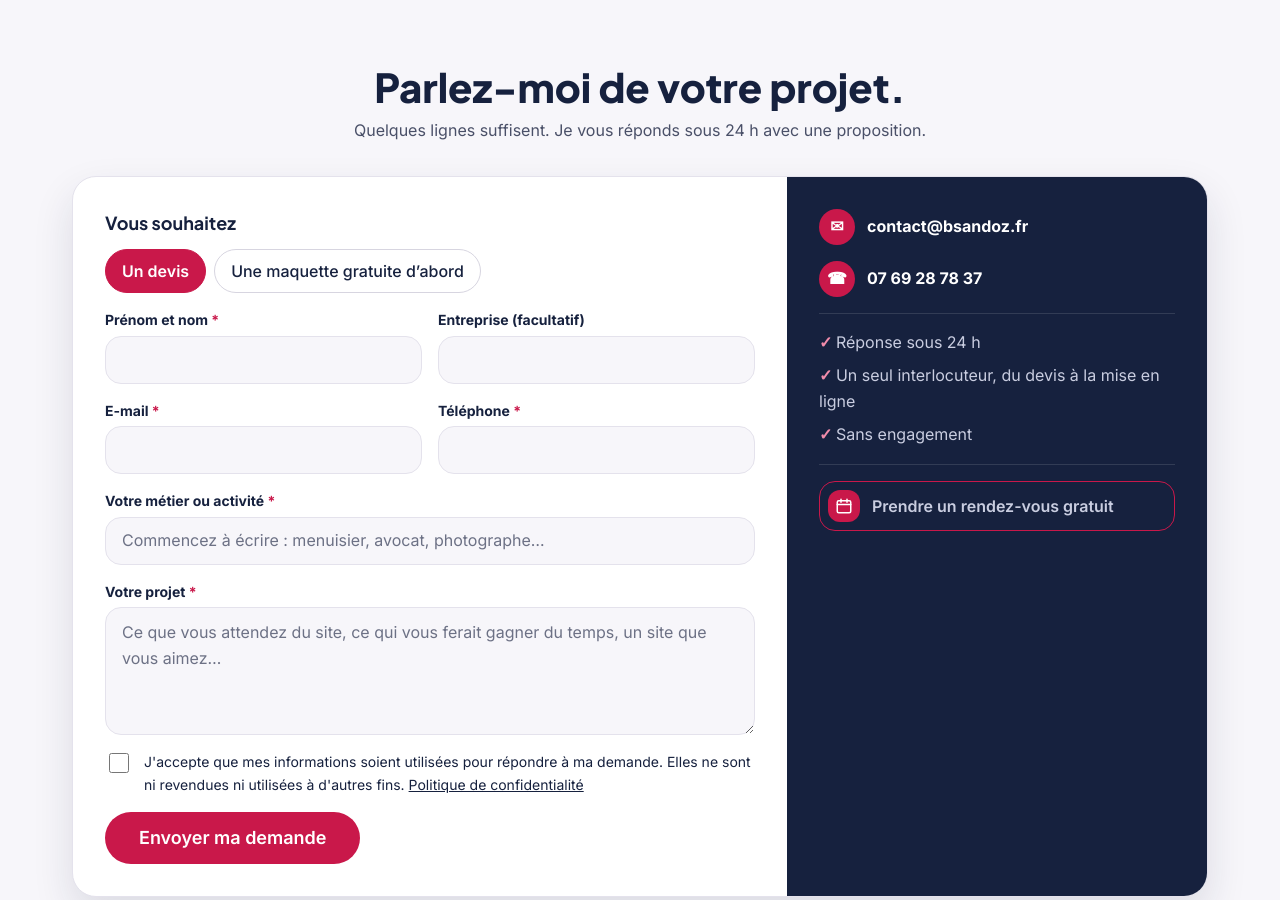
Test case: ContactRapide › explique les erreurs sans rien envoyer
Click the button "Envoyer ma demande" at point(233, 838), box [105,812,360,864]
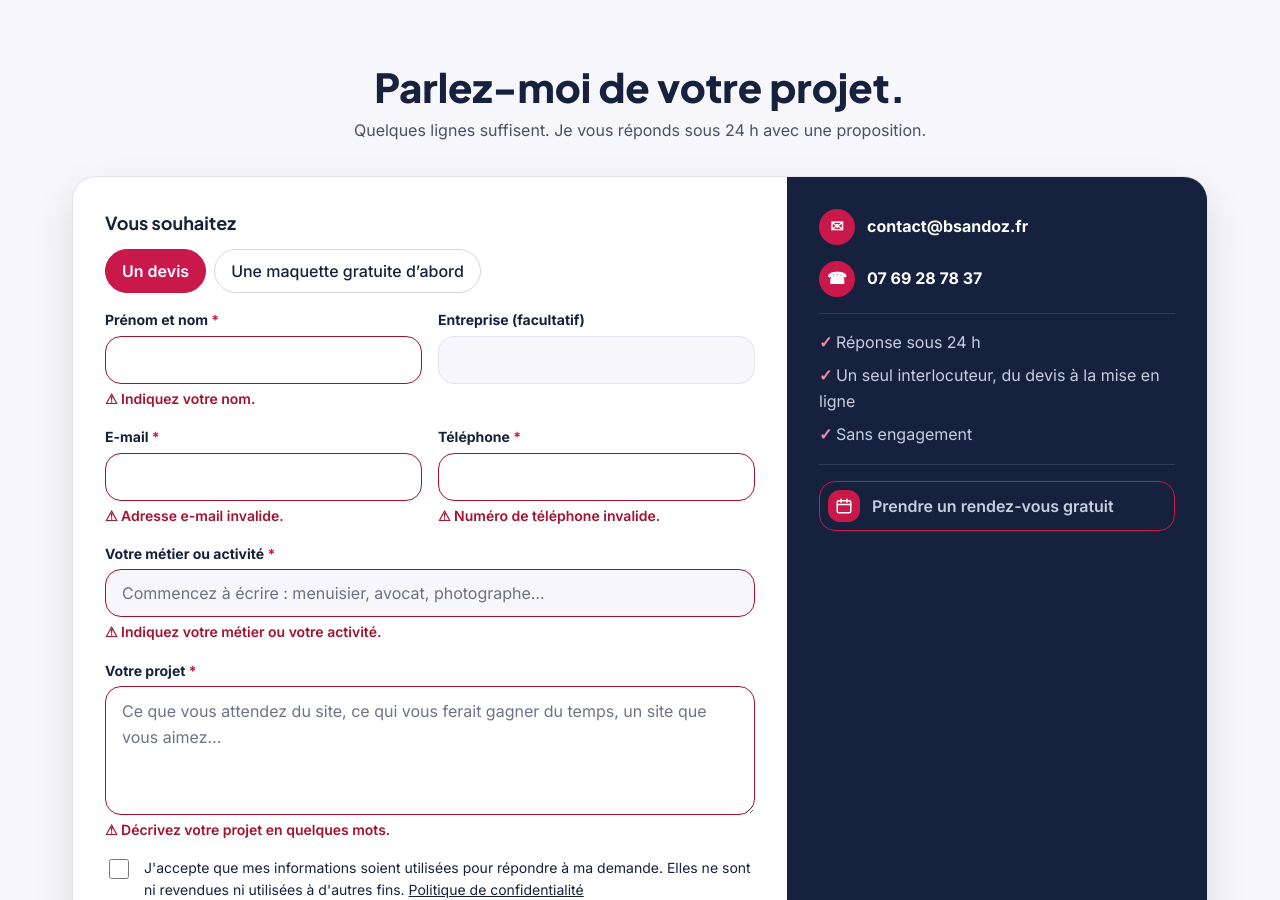
Now the text "Indiquez votre nom." is shown, box [121,390,255,407]
Now the text "Indiquez votre métier ou votre activité." is shown, box [121,623,381,640]
Now the text "Décrivez votre projet en quelques mots." is shown, box [121,820,390,838]
